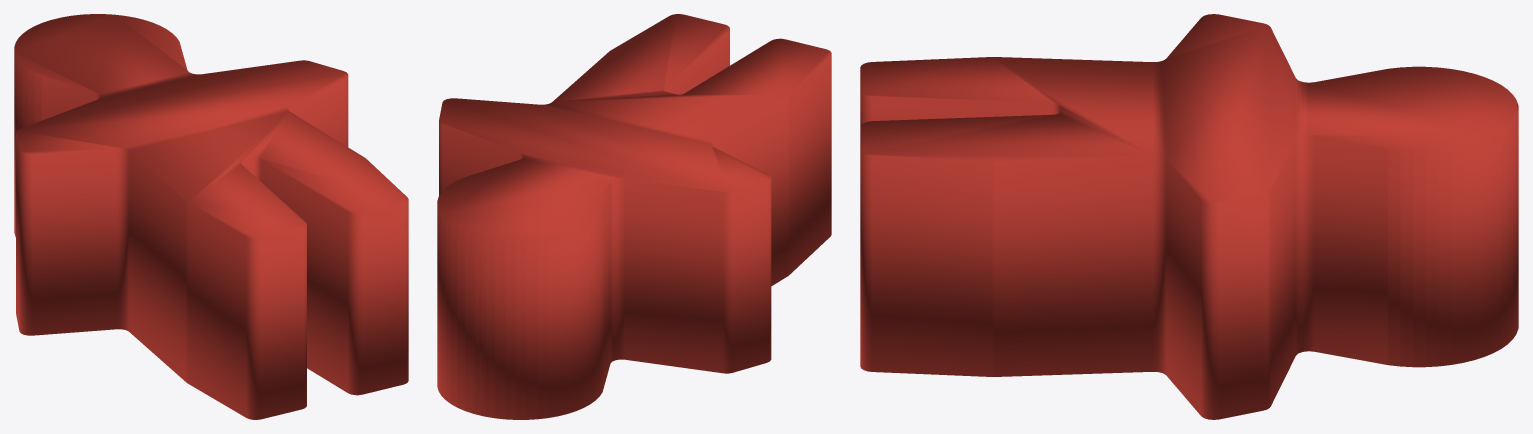
The model's file is meeple_red.glb.
3 renders of one model, left to right at view 1: azimuth 30°, elevation 25°; view 2: azimuth 150°, elevation 25°; view 3: azimuth 270°, elevation 25°, orthographic. The views are drawn at different scales.
Visible parts, largest first — view 1: meeple_red; view 2: meeple_red; view 3: meeple_red.
Boxes of the visible parts, x1,y1,x2,y2 form: meeple_red: [14, 14, 408, 419]; meeple_red: [437, 14, 831, 419]; meeple_red: [860, 14, 1518, 419].
Size of the model in its own units: 0.0151 by 0.008 by 0.0221.
